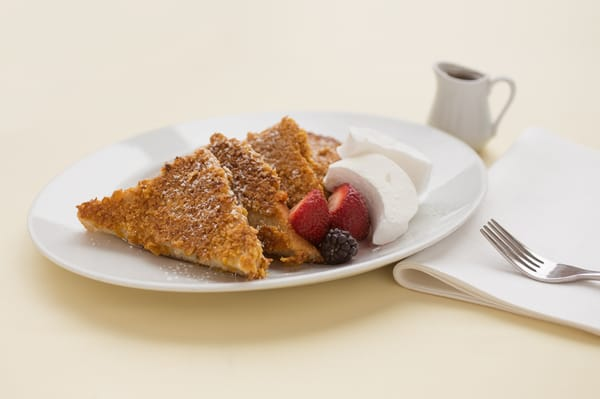burger: (393, 262, 599, 340), (479, 218, 600, 283)
